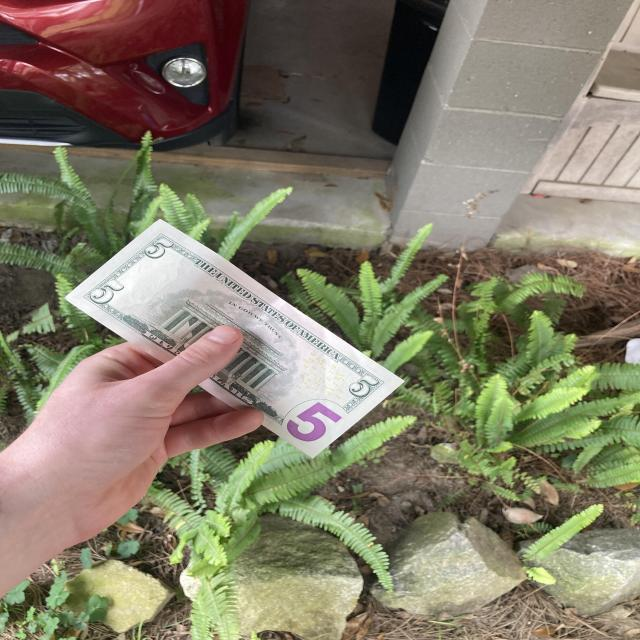five: (65, 219, 406, 458)
